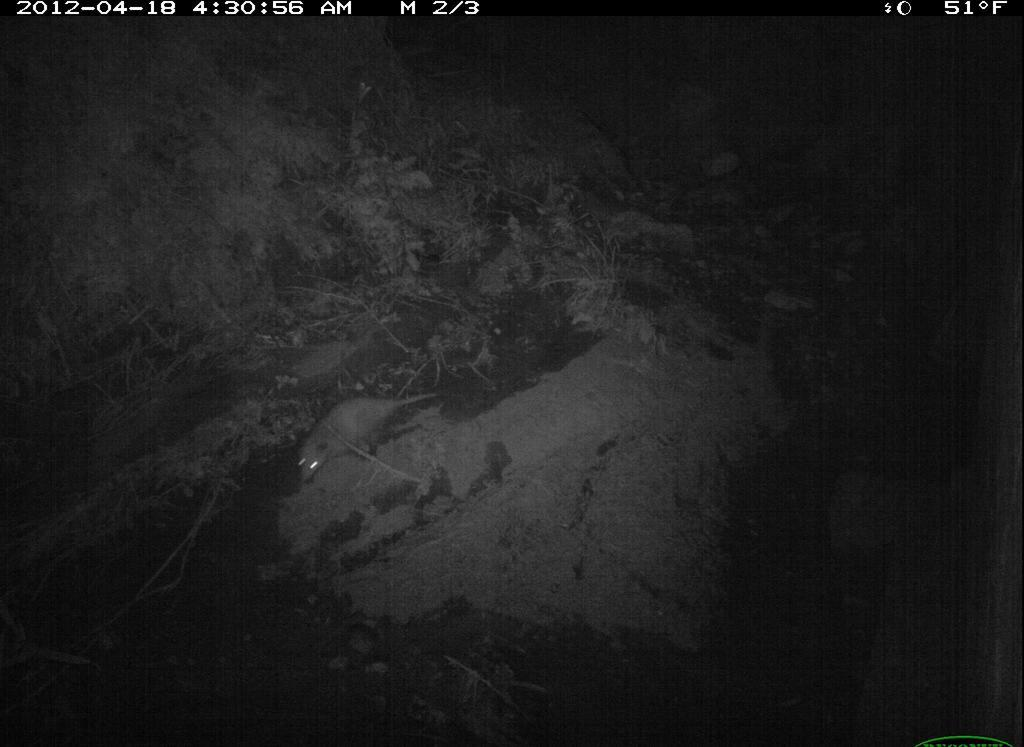opossum: (295, 381, 449, 488)
